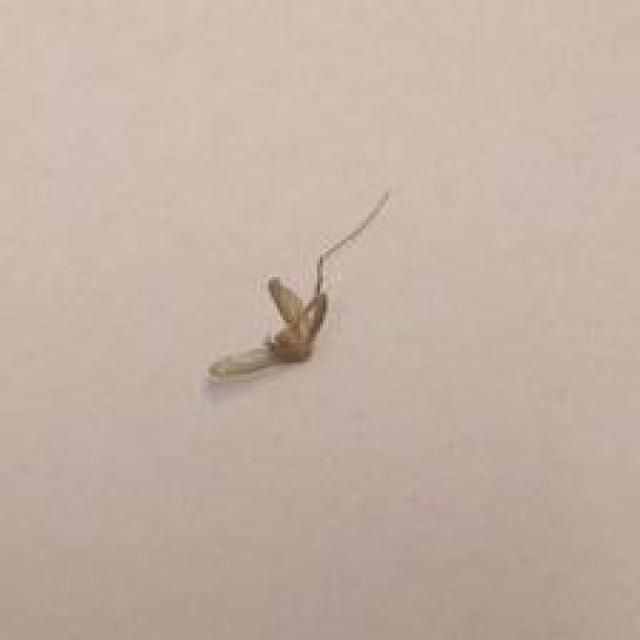Culex: (206, 188, 391, 383)
